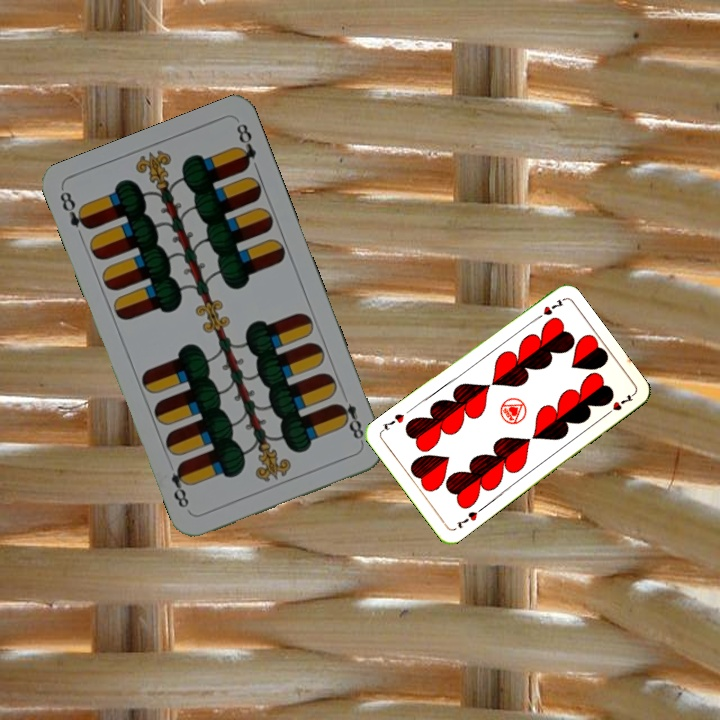E8: (55, 187, 93, 244), (332, 399, 367, 446)
H7: (530, 295, 566, 323), (453, 503, 486, 531)
